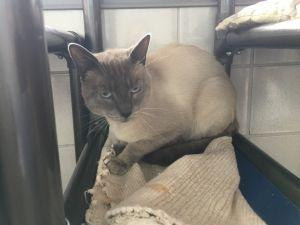siamese: (60, 33, 166, 136)
